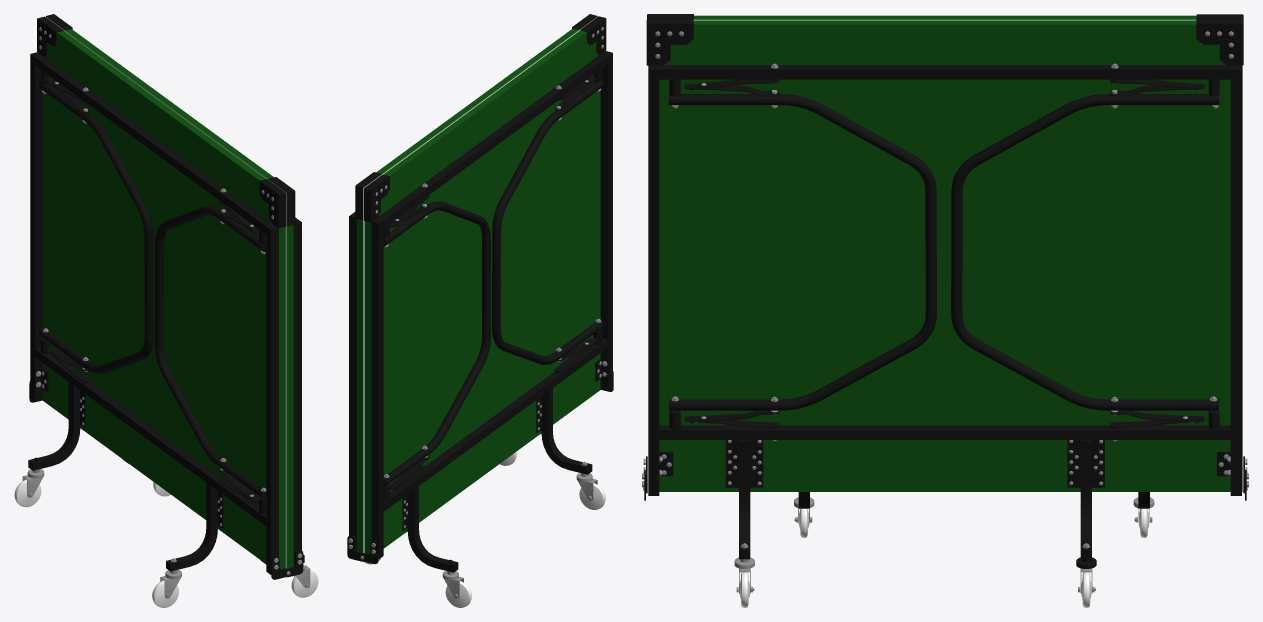
Rendered from Close Table.FBX.
3 views of the same model, side by side, from view 1: azimuth 30°, elevation 25°; view 2: azimuth 150°, elevation 25°; view 3: azimuth 270°, elevation 25° (orthographic). The views are drawn at different scales.
Parts seen in each view (by area): view 1: estrucrura 003, estructura 004; view 2: estrucrura 003, estructura 004; view 3: estructura 004, estrucrura 003.
Boxes of the visible parts, x1=… form: estrucrura 003: x1=14, y1=16, x2=287, y2=607; estructura 004: x1=46, y1=14, x2=318, y2=597; estrucrura 003: x1=362, y1=16, x2=613, y2=607; estructura 004: x1=347, y1=14, x2=597, y2=564; estructura 004: x1=642, y1=19, x2=1248, y2=607; estrucrura 003: x1=643, y1=14, x2=1247, y2=537.
Bounding box in the file's own units: 0.5343 × 1.62 × 1.61.
